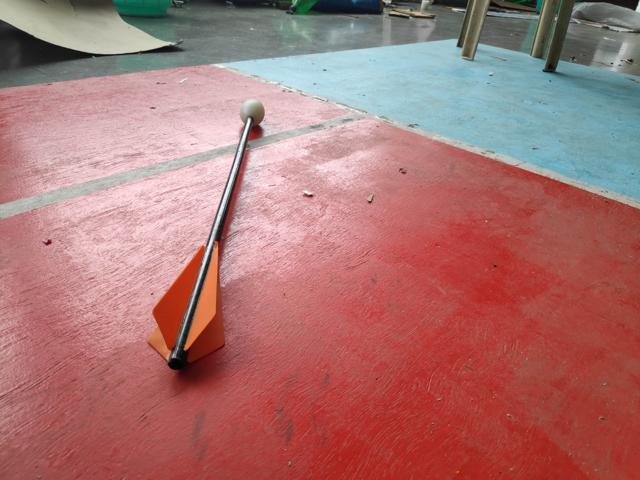Head: (235, 97, 272, 128)
Tail: (141, 238, 232, 376)
